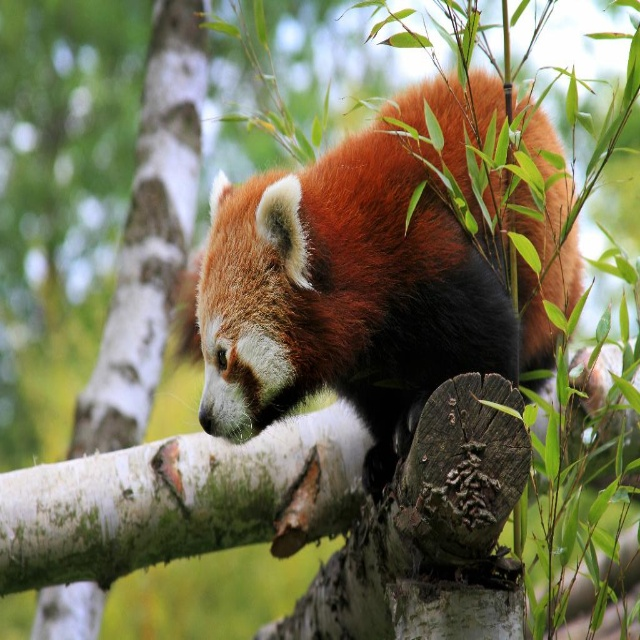Red panda: (152, 60, 588, 497)
